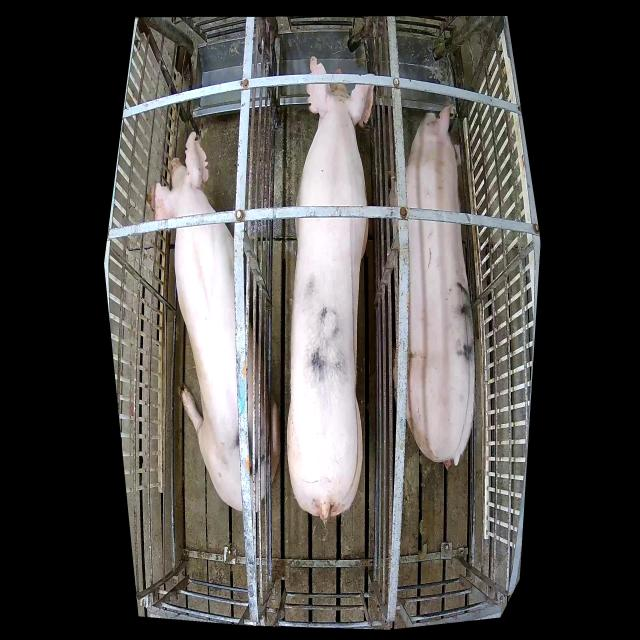pig: (147, 132, 281, 514), (287, 56, 376, 529), (389, 106, 475, 470)
